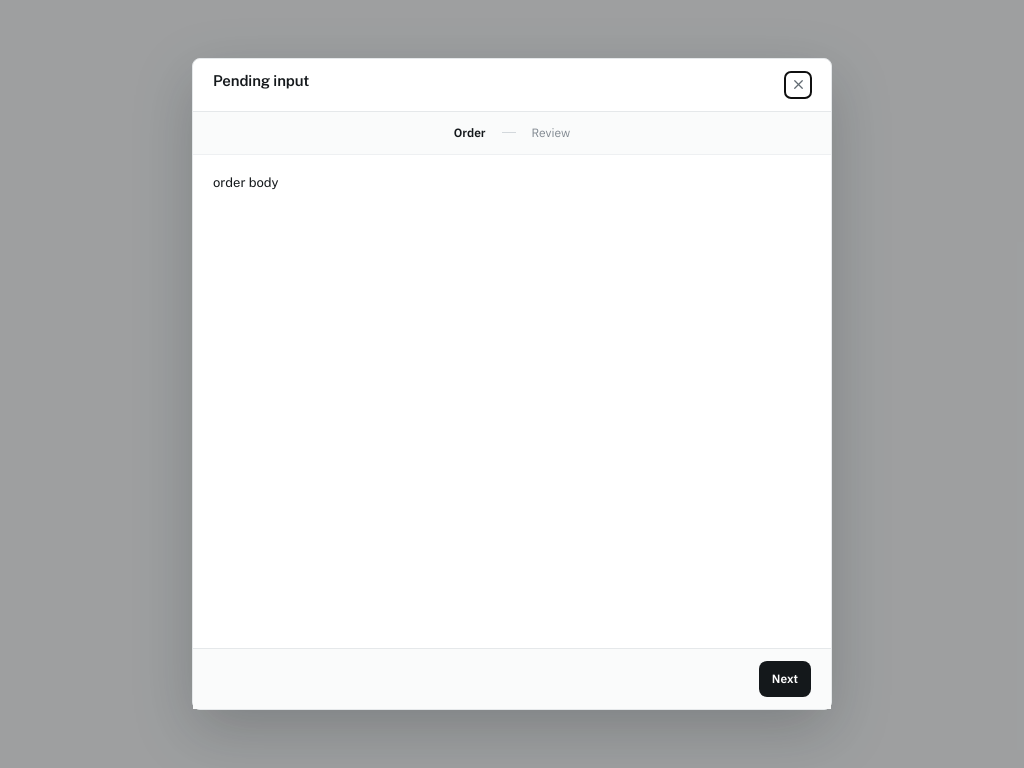
it: Dialog › shows one step at a time and holds the real actions until the last
Expected: the text "order body" is shown, [213, 175, 278, 190]
Expected: the text "review body" is not shown
Step 1. Click the button "Next" → (785, 679), box [759, 661, 811, 697]
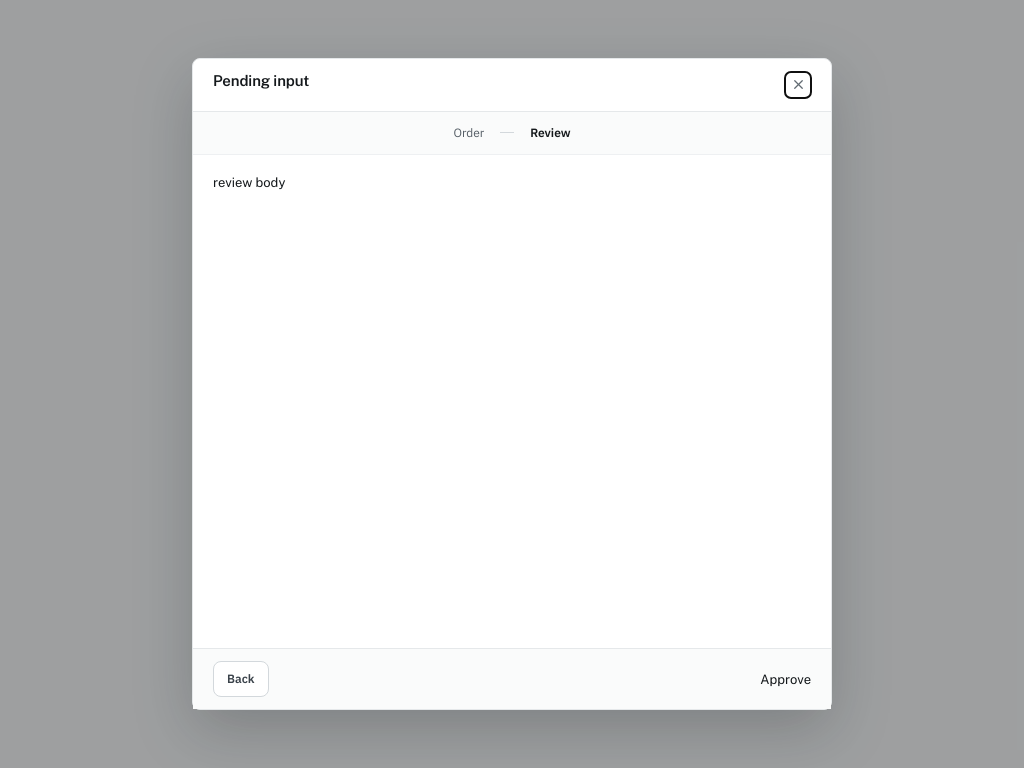
Now the text "review body" is shown, box [213, 175, 285, 190]
Now the button "Approve" is shown, box [760, 670, 811, 689]
